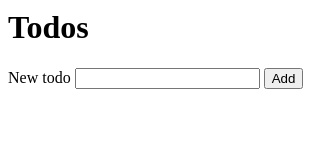
Scenario: App › deletes the correct todo when two todos share the same text
The width and height of the screenshot is (320, 166).
Type "Same" into the field labelled "New todo" at [167, 78], box [75, 68, 260, 89]
Then press Enter
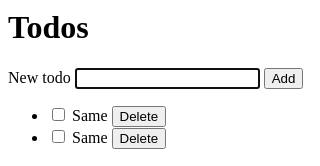
Click the 1st checkbox labelled "Same" at [58, 114], box [52, 108, 65, 121]
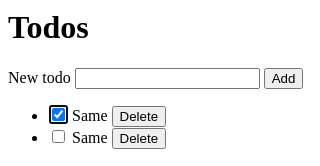
Click the button with aria-label "Delete Same" at [139, 116], box [112, 106, 166, 127]
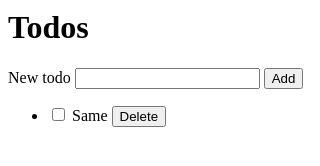
Now the checkbox labelled "Same" is not checked, box [52, 108, 65, 121]
Now the number of checkboxes labelled "Same" is 1, box [52, 108, 65, 121]
